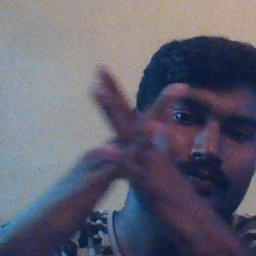W: (74, 62, 207, 195)
